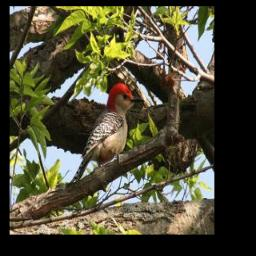Woodpecker: (66, 79, 145, 186)
